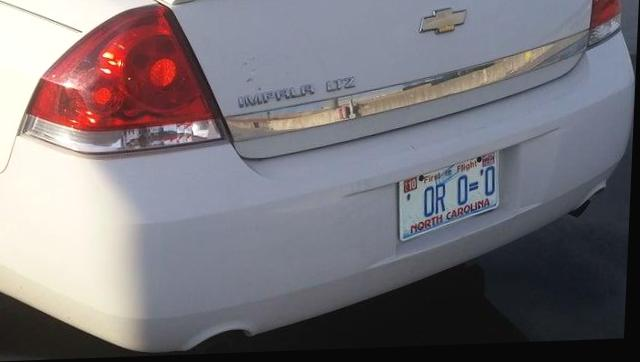License_Plate: (390, 146, 516, 251)
